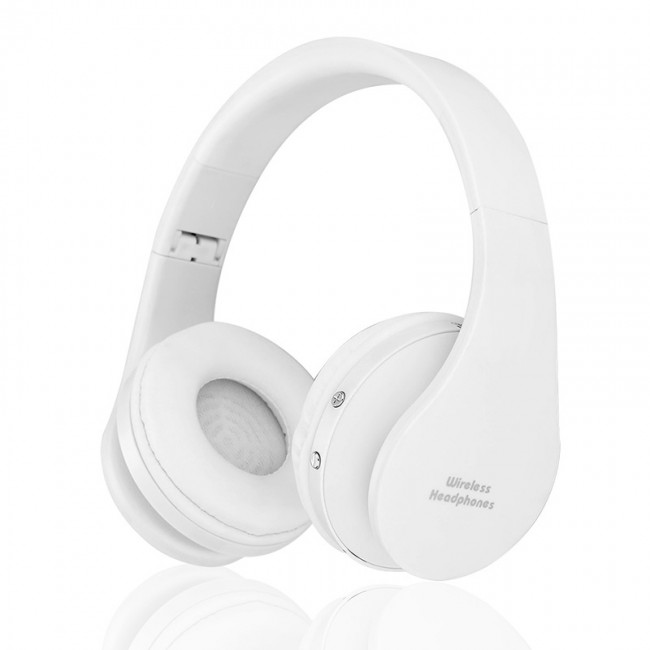Headphone: (100, 26, 577, 609)
